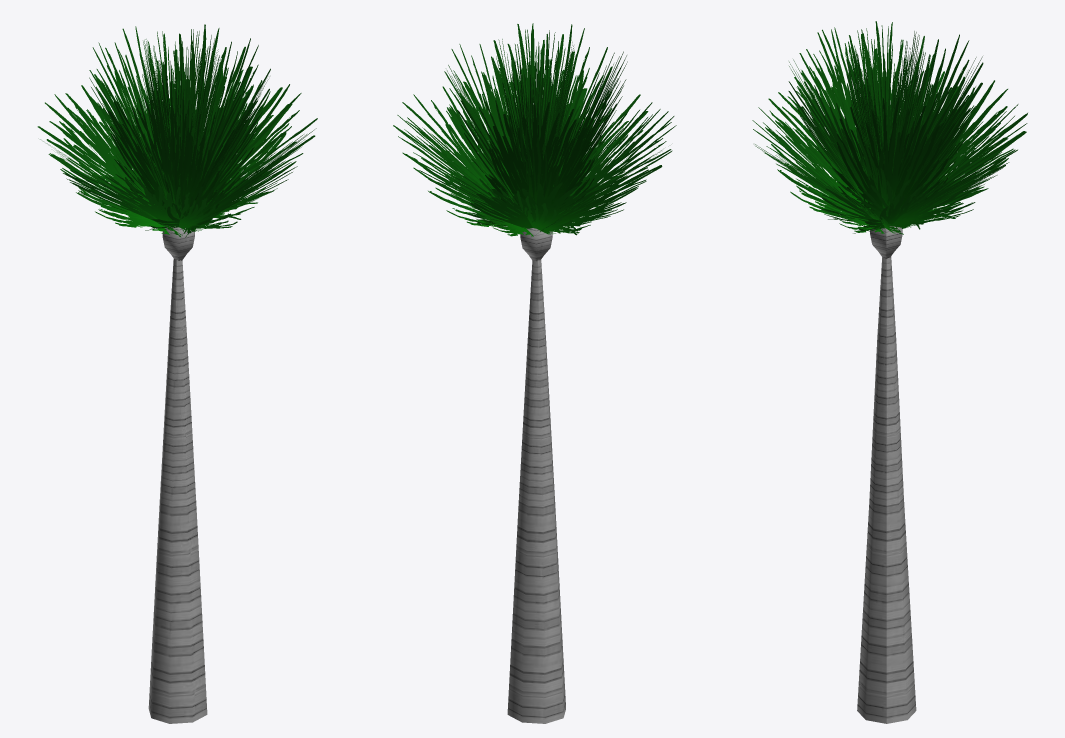
The model's file is palm-06.gltf.
3 renders of one model, left to right at view 1: azimuth 30°, elevation 25°; view 2: azimuth 150°, elevation 25°; view 3: azimuth 270°, elevation 25°, orthographic.
Parts seen in each view (by area): view 1: palm06; view 2: palm06; view 3: palm06.
Part boxes in pixels (<box>): palm06: <box>37,24,317,723</box>; palm06: <box>393,23,676,723</box>; palm06: <box>752,21,1027,723</box>.
Bounding box in the file's own units: 65.16 × 147 × 63.46.
2 materials, 2 textured.
